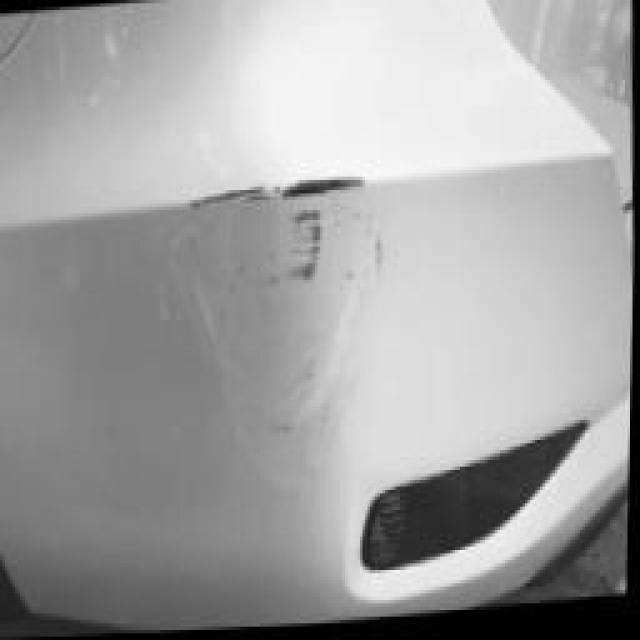Bumper: (118, 120, 427, 508)
